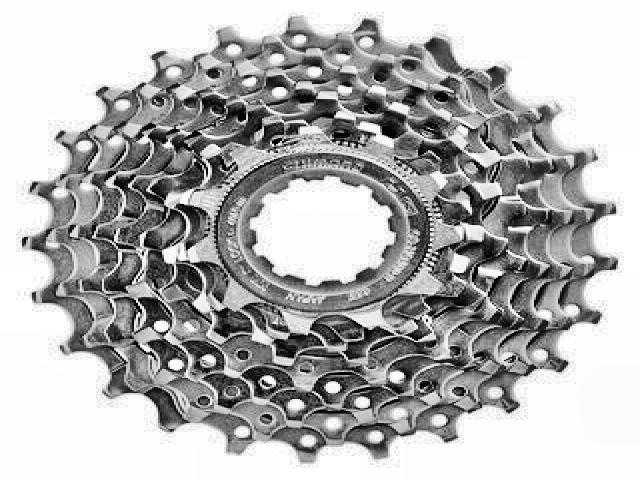cassette: (22, 13, 619, 462)
